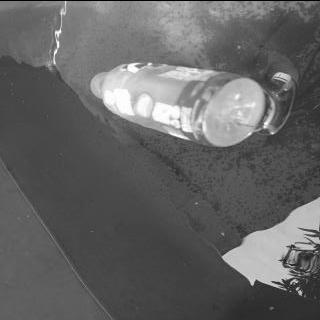bottle: (86, 59, 267, 150)
